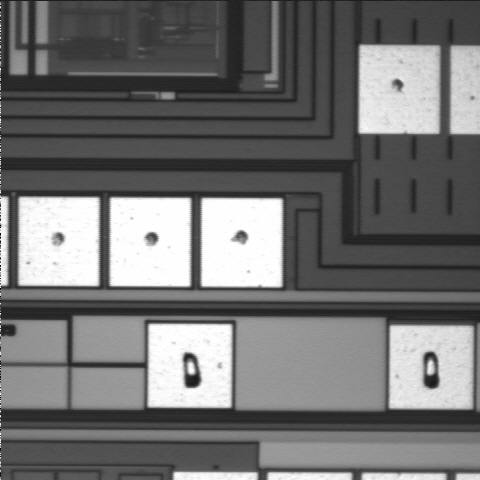pad: (201, 198, 283, 287), (110, 198, 191, 287), (359, 45, 439, 134), (19, 197, 99, 286), (148, 324, 232, 408), (389, 326, 473, 409)
